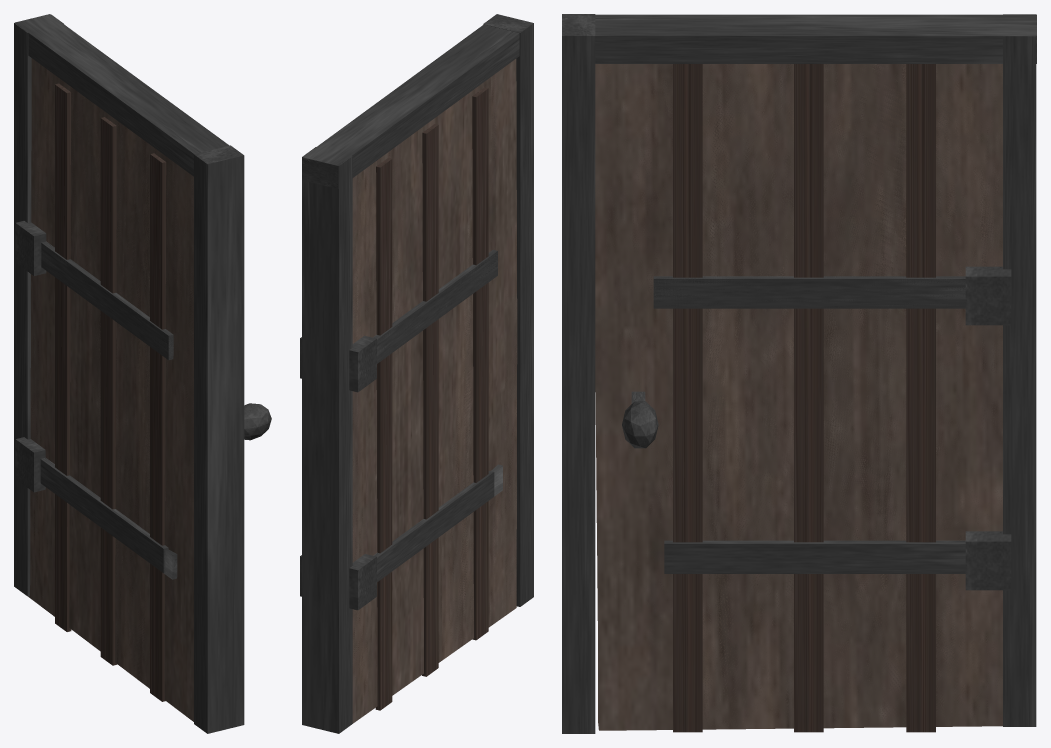
Rendered from kysDoor.fbx.
The picture shows the model from 3 angles, left to right: view 1: azimuth 30°, elevation 25°; view 2: azimuth 150°, elevation 25°; view 3: azimuth 270°, elevation 25°; orthographic projection. The views are drawn at different scales.
Parts seen in each view (by area): view 1: Cube; view 2: Cube; view 3: Cube.
Part boxes in pixels (<box>): Cube: <box>14,14,271,733</box>; Cube: <box>300,14,533,733</box>; Cube: <box>562,14,1036,733</box>.
Bounding box in the file's own units: 39.91 × 212 × 130.
